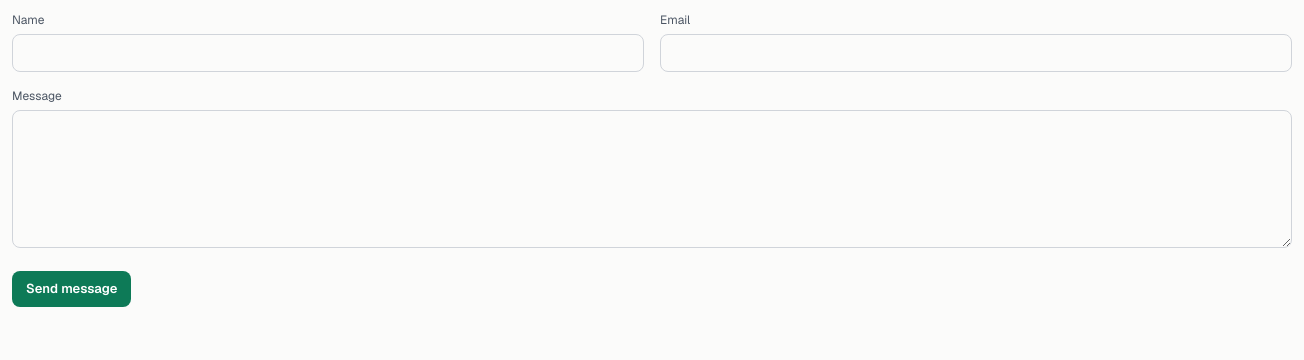
Test: ContactForm › falls back to the email address and keeps the input when the API is down
Type "Ada" into the field labelled "Name".
click(328, 53); type("Ada")  # box [12,34,644,72]
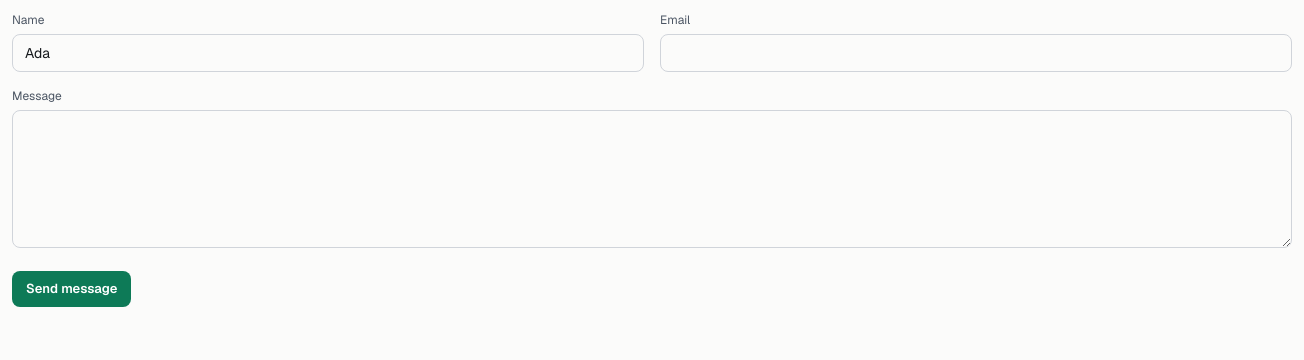
Type "ada@example.com" into the field labelled "Email".
click(976, 53); type("ada@example.com")  # box [660,34,1292,72]
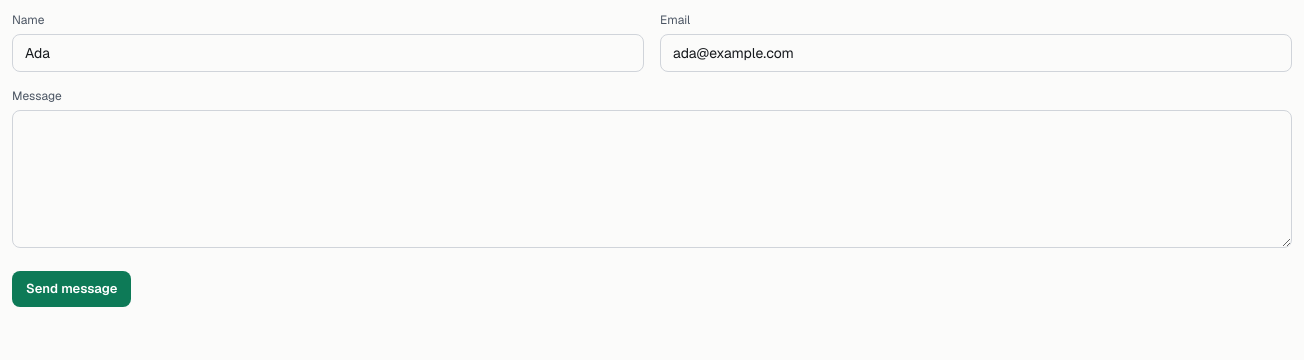
Type "Hello there, Chris!" into the text box labelled "Message".
click(652, 179); type("Hello there, Chris!")  # box [12,110,1292,248]
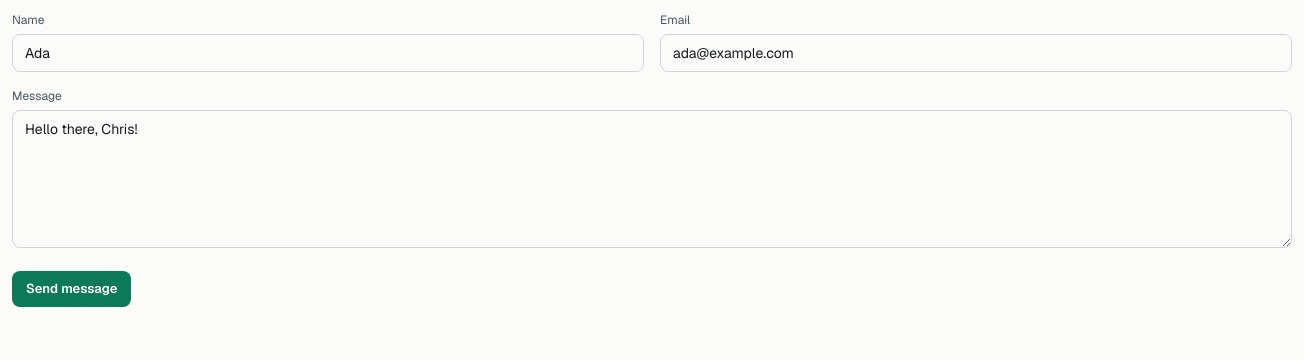
Click the button "Send message".
click(72, 289)  # box [12,271,131,306]
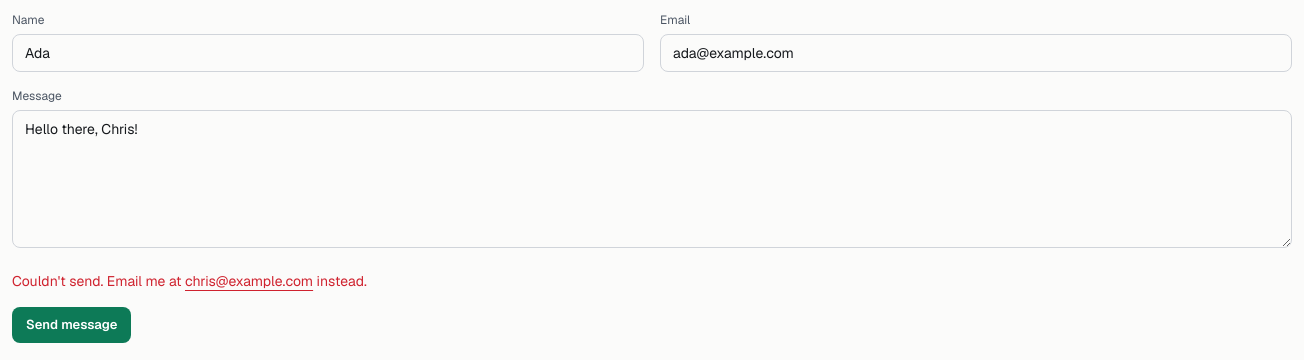
Check: the message reads "Couldn't send. Email me at chris@example.com instead.", box [12,272,367,290]
Check: the link to "mailto:chris@example.com" is shown, box [185,272,313,290]
